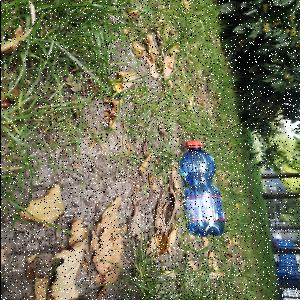Plastic-bottle: (178, 141, 226, 239)
